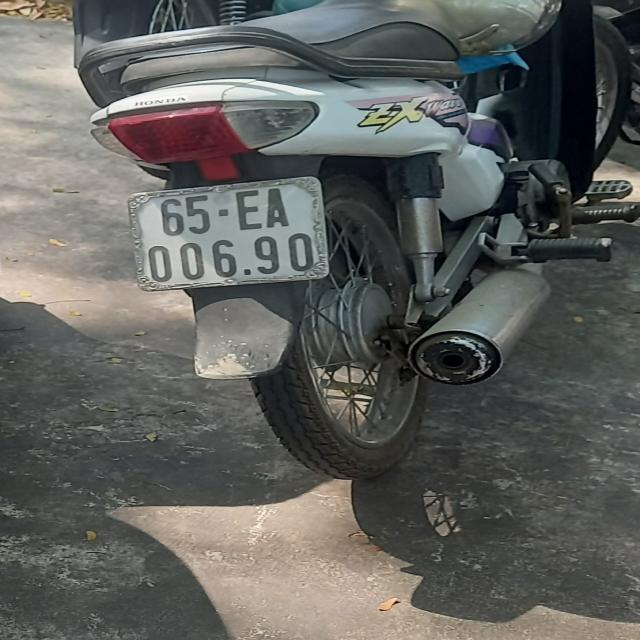0: (145, 243, 176, 286), (179, 243, 210, 283), (287, 231, 313, 273)
5: (186, 194, 214, 236)
6: (210, 239, 238, 277), (160, 198, 186, 237)
9: (252, 235, 282, 278)
A: (262, 185, 290, 230)
E: (234, 188, 262, 231)
